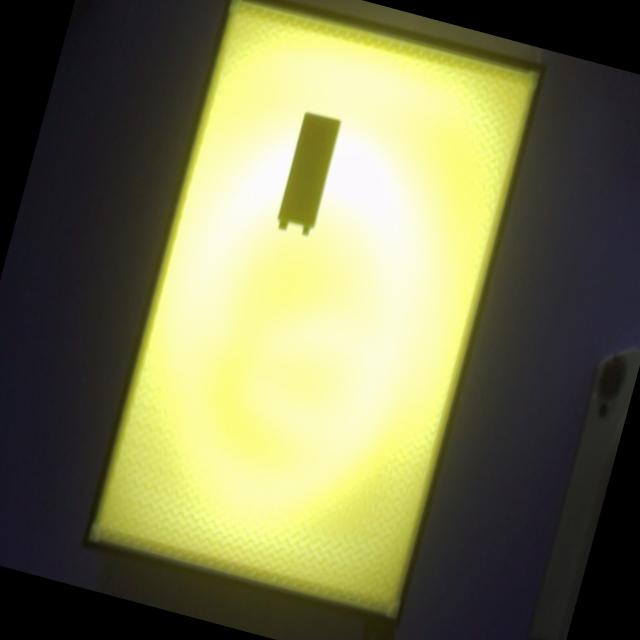bateria: (276, 111, 343, 236)
mesa: (80, 0, 547, 630)
